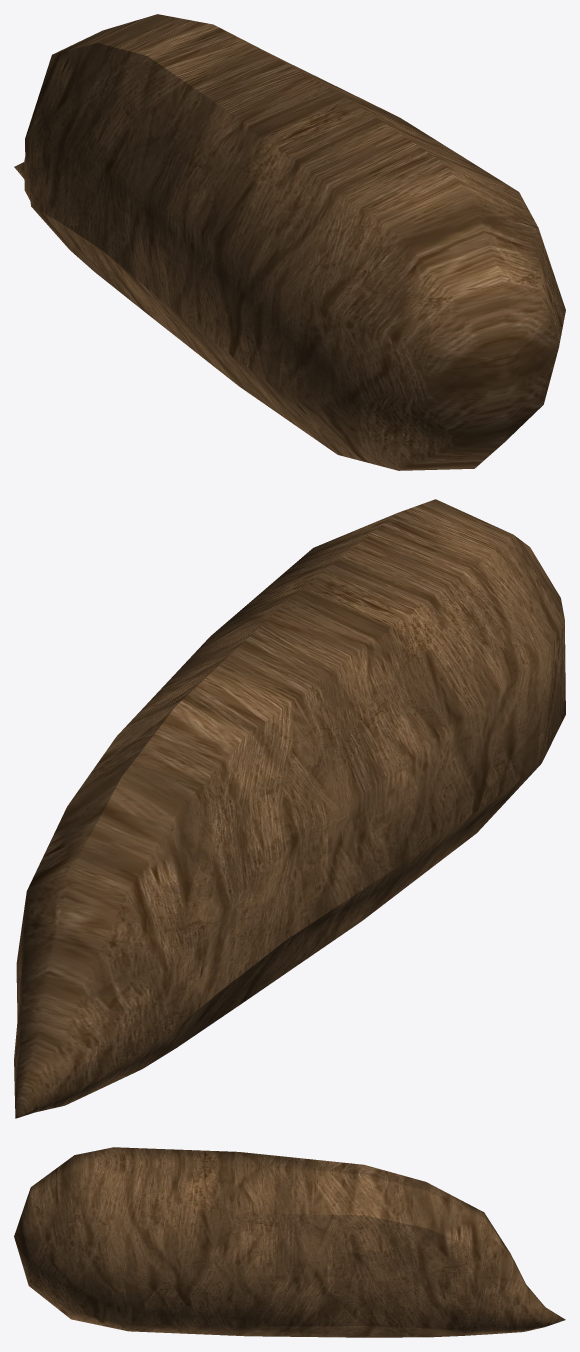
Rendered from pm-dialogue-bubble-01.glb.
3 renders of one model, top to bottom at view 1: azimuth 30°, elevation 25°; view 2: azimuth 150°, elevation 25°; view 3: azimuth 270°, elevation 25°, orthographic. The views are drawn at different scales.
Visible parts, largest first — view 1: DialogueBubble01; view 2: DialogueBubble01; view 3: DialogueBubble01.
Part boxes in pixels (x1,y1,x2,y2): DialogueBubble01: (14,14,565,470); DialogueBubble01: (14,499,565,1118); DialogueBubble01: (14,1147,565,1337).
Size of the model in its own units: 0.8905 by 1.02 by 2.87.
Materials: 1 (1 with a texture image).
